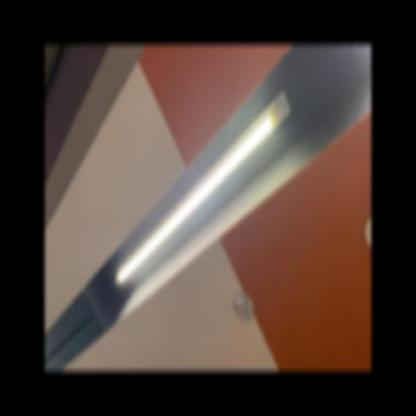light_on: (108, 82, 296, 294)
